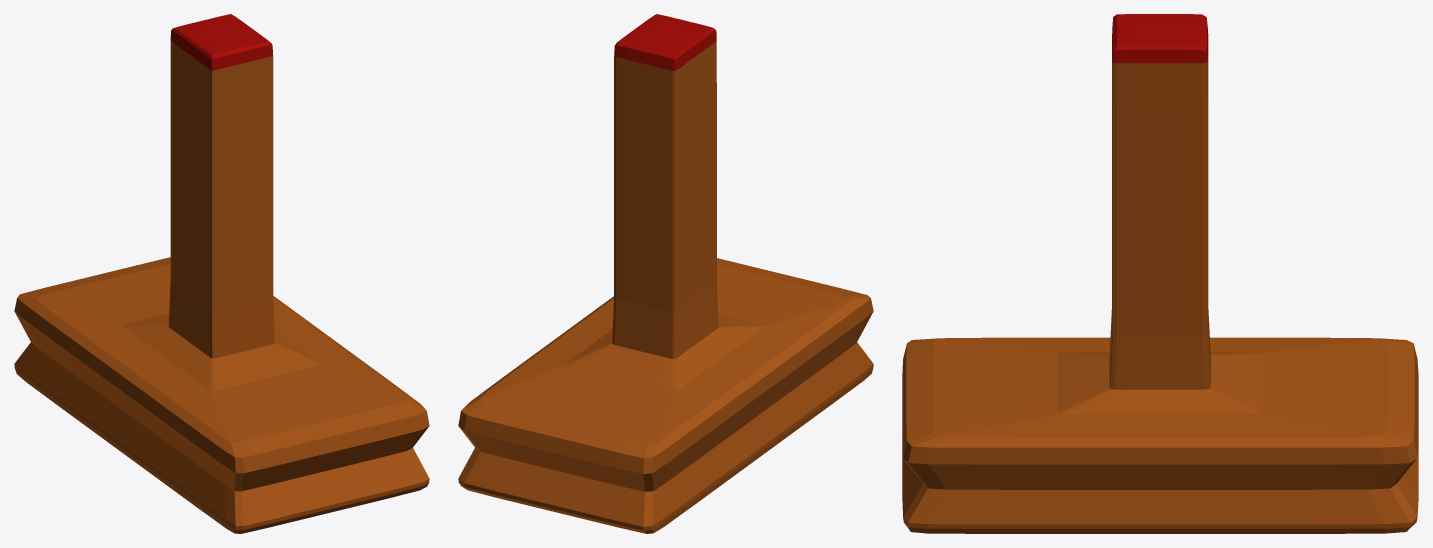
File: SelloTaduralacosa2.fbx
The picture shows the model from 3 angles, left to right: view 1: azimuth 30°, elevation 25°; view 2: azimuth 150°, elevation 25°; view 3: azimuth 270°, elevation 25°; orthographic projection. The views are drawn at different scales.
Parts seen in each view (by area): view 1: Cube.009, Cube.010; view 2: Cube.009, Cube.010; view 3: Cube.009, Cube.010.
Boxes of the visible parts, bbox=[...] form: Cube.009: bbox=[14, 14, 429, 491]; Cube.010: bbox=[14, 342, 429, 533]; Cube.009: bbox=[458, 14, 873, 491]; Cube.010: bbox=[458, 342, 873, 533]; Cube.009: bbox=[902, 14, 1418, 489]; Cube.010: bbox=[902, 442, 1418, 533].
Size of the model in its own units: 39.36 by 75.89 by 78.34.
